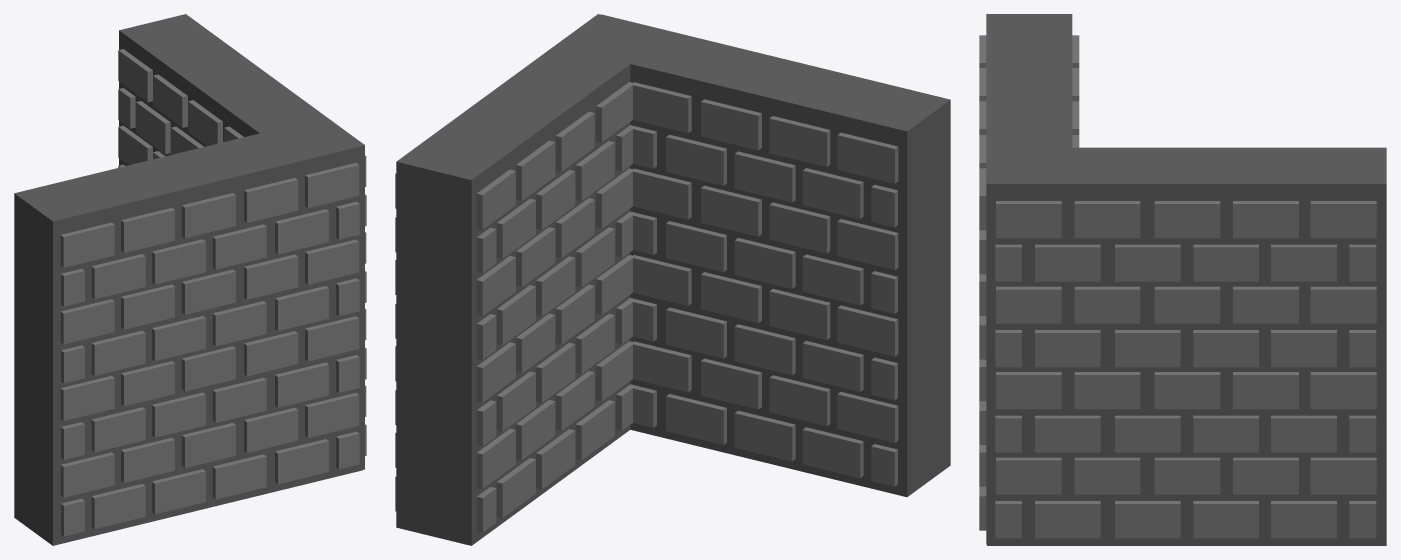
File: cornerwall.fbx
The picture shows the model from 3 angles, left to right: view 1: azimuth 30°, elevation 25°; view 2: azimuth 150°, elevation 25°; view 3: azimuth 270°, elevation 25°; orthographic projection. The views are drawn at different scales.
Visible parts, largest first — view 1: wall.001; view 2: wall.001; view 3: wall.001.
Boxes of the visible parts, <box> form: wall.001: <box>14,14,366,545</box>; wall.001: <box>395,14,950,545</box>; wall.001: <box>979,14,1386,545</box>.
Size of the model in its own units: 102 by 100 by 102.
